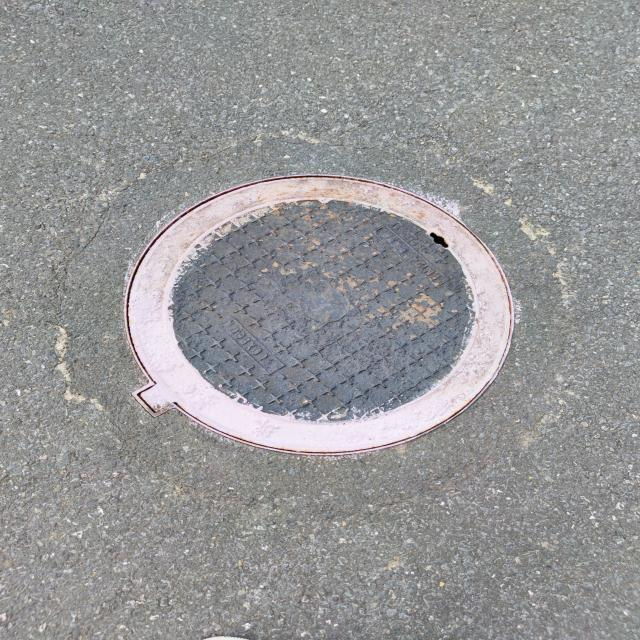Good: (118, 170, 526, 461)
